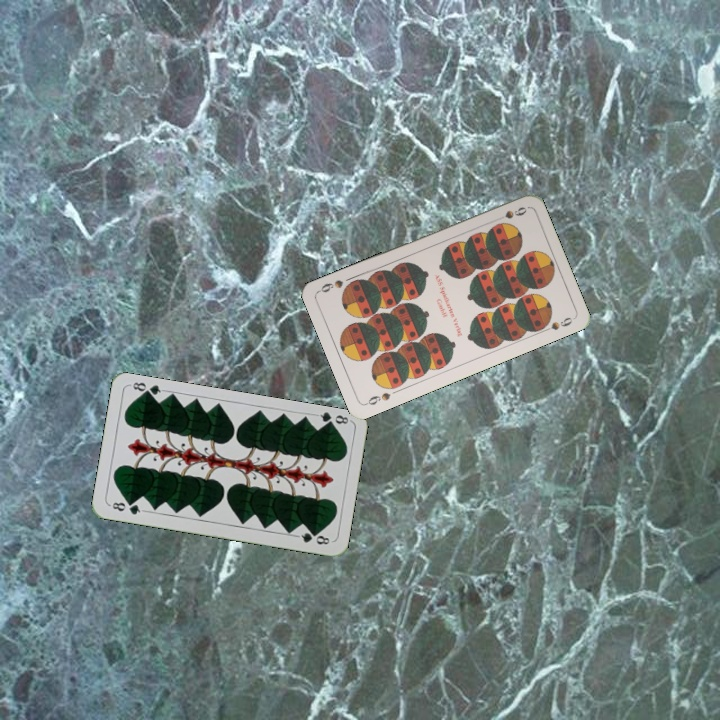G8: (312, 409, 353, 430), (106, 498, 146, 517)
S9: (490, 203, 529, 224), (362, 388, 393, 408)
